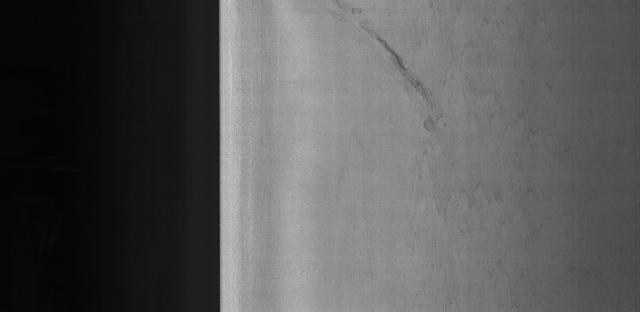silk_spot: (463, 26, 611, 294)
water_spot: (329, 1, 455, 145)
